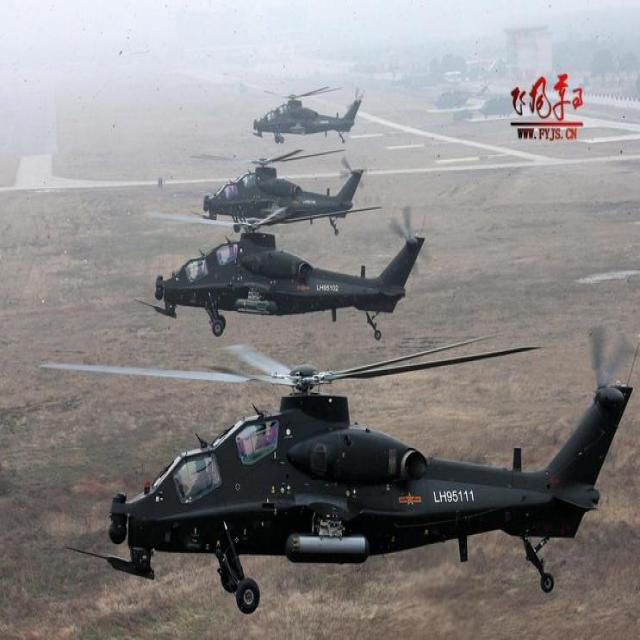MIL_HELO: (28, 324, 640, 610), (78, 188, 463, 342), (121, 137, 380, 242), (197, 81, 371, 152)
